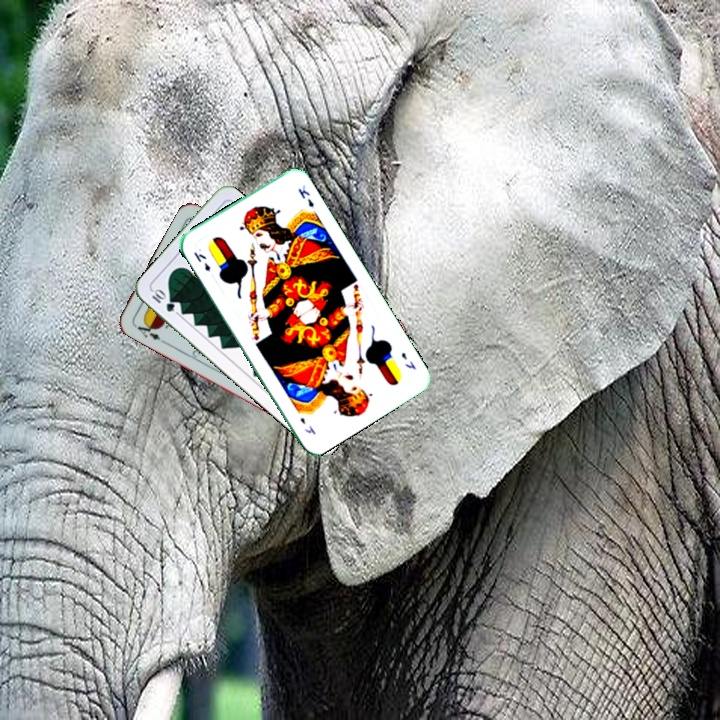EA: (130, 317, 163, 343)
EK: (190, 248, 213, 274), (397, 348, 418, 372)
G10: (148, 284, 177, 315)
